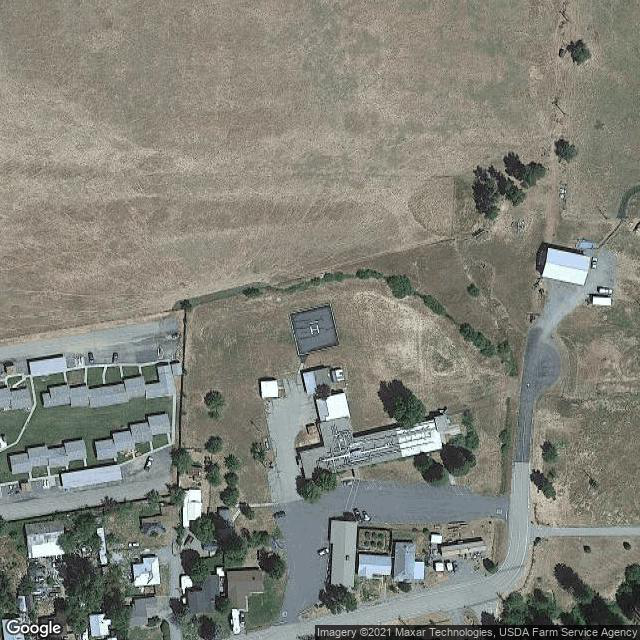Helipad: (286, 303, 344, 353)
